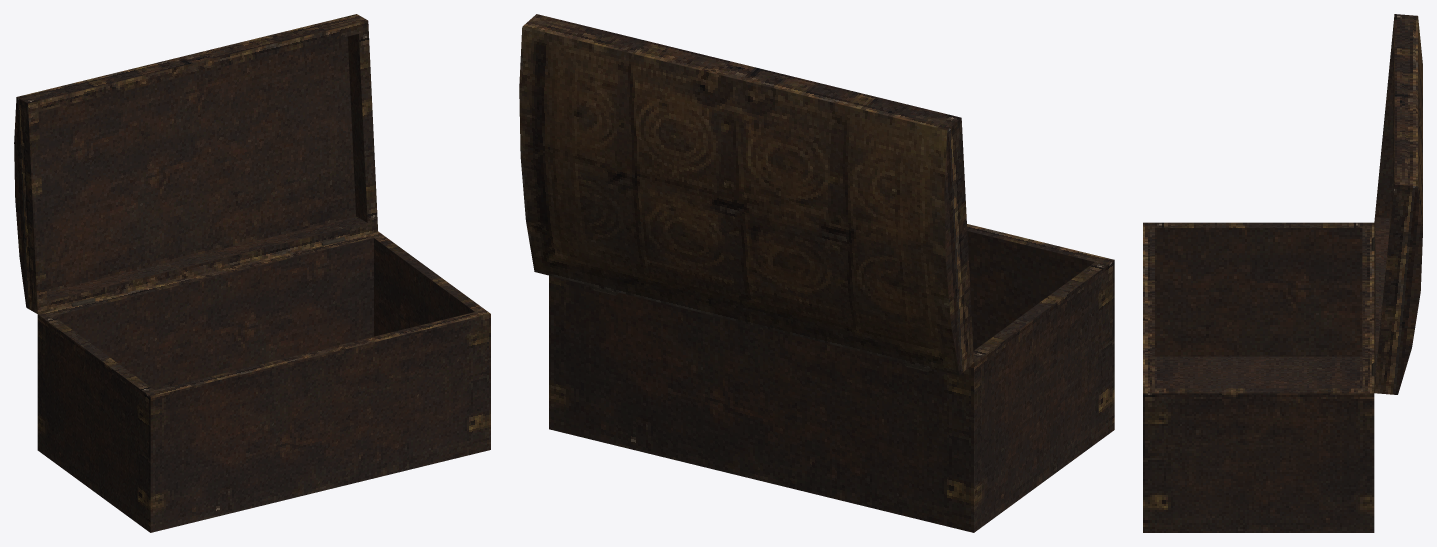
The model's file is wooden_crate_3.glb.
3 renders of one model, left to right at view 1: azimuth 30°, elevation 25°; view 2: azimuth 150°, elevation 25°; view 3: azimuth 270°, elevation 25°, orthographic. The views are drawn at different scales.
Visible parts, largest first — view 1: wooden_crate_3, wooden_crate_3_lid; view 2: wooden_crate_3_lid, wooden_crate_3; view 3: wooden_crate_3, wooden_crate_3_lid.
Boxes of the visible parts, left/top/right/bottom form: wooden_crate_3: left=37, top=231, right=490, bottom=532; wooden_crate_3_lid: left=14, top=14, right=377, bottom=313; wooden_crate_3_lid: left=519, top=14, right=973, bottom=375; wooden_crate_3: left=549, top=224, right=1114, bottom=532; wooden_crate_3: left=1143, top=222, right=1374, bottom=532; wooden_crate_3_lid: left=1374, top=14, right=1422, bottom=394.
Size of the model in its own units: 0.68 by 0.6485 by 0.472.
1 material, 1 textured.
